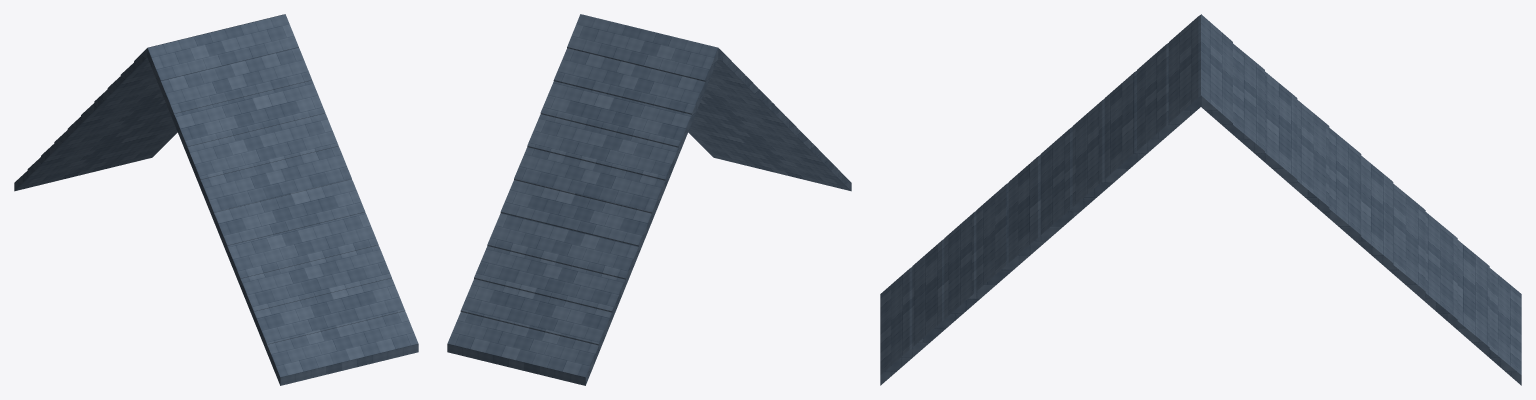
The model's file is Furn_Roof2_Gable.fbx.
The picture shows the model from 3 angles, left to right: view 1: azimuth 30°, elevation 25°; view 2: azimuth 150°, elevation 25°; view 3: azimuth 270°, elevation 25°; orthographic projection. The views are drawn at different scales.
Parts seen in each view (by area): view 1: Furn_Roof2_Gable; view 2: Furn_Roof2_Gable; view 3: Furn_Roof2_Gable.
Boxes of the visible parts, x1,y1,x2,y2 form: Furn_Roof2_Gable: (14,14,418,385); Furn_Roof2_Gable: (447,14,851,385); Furn_Roof2_Gable: (880,14,1521,385).
Size of the model in its own units: 3 by 5 by 10.
